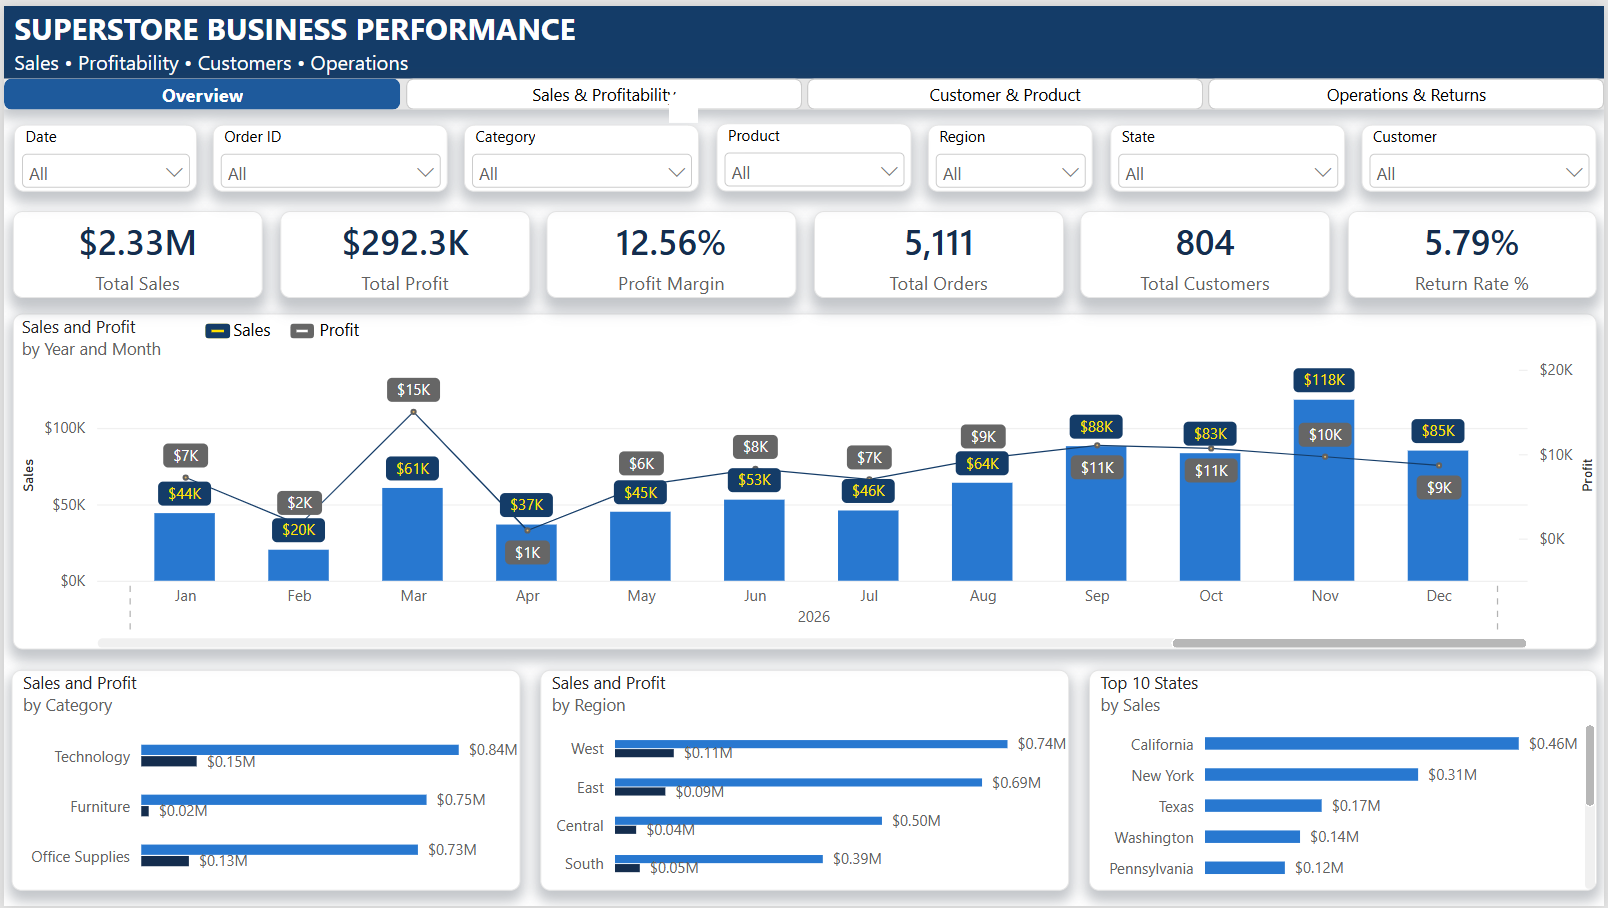

The page's visual inventory and layout, read from the dashboard file:
{"tool":"powerbi","page":{"name":"Overview","canvas":[1280,720],"ordinal":0},"visuals":[{"type":"shape","box":[0,0,1280.2,58.5],"z":0},{"type":"textbox","box":[7,1,1245,56],"z":1000},{"type":"clusteredBarChart","fields":{"Category":["Orders.Category"],"Y":["_Measures.Total Sales","_Measures.Total Profit"]},"box":[6.4,530.8,406.1,177.4],"z":2000},{"type":"clusteredBarChart","fields":{"Category":["Orders.Region"],"Y":["_Measures.Total Sales","_Measures.Total Profit"]},"box":[429,531,423,177],"z":3000},{"type":"clusteredBarChart","title":"Top 10 States","fields":{"Category":["Orders.State/Province"],"Y":["_Measures.Total Sales"]},"box":[868,531,406,177],"z":4000},{"type":"lineClusteredColumnComboChart","fields":{"Category":["DimDate.Year","DimDate.Month"],"Y":["_Measures.Total Sales"],"Y2":["_Measures.Total Profit"]},"box":[7.2,246.4,1266.9,269],"z":12000},{"type":"card","fields":{"Values":["_Measures.Total Sales"]},"box":[6.7,164.2,200.6,70],"z":13000},{"type":"card","fields":{"Values":["_Measures.Total Profit"]},"box":[220.9,164.4,200,70],"z":14000},{"type":"card","fields":{"Values":["_Measures.Profit Margin"]},"box":[434.4,164.4,200,70],"z":15000},{"type":"card","fields":{"Values":["_Measures.Total Orders"]},"box":[647.9,164.4,200,70],"z":16000},{"type":"card","fields":{"Values":["_Measures.Total Customers"]},"box":[861.4,164.4,200,70],"z":17000},{"type":"card","fields":{"Values":["Returns.Return Rate %"]},"box":[1074.9,164.2,198.7,70],"z":18000},{"type":"pageNavigator","box":[0,58,1280,25],"z":19000},{"type":"shape","box":[161.2,253.6,19.5,12.3],"z":20000},{"type":"shape","box":[228.9,253.6,19.5,12.3],"z":21000},{"type":"textbox","box":[183,249,40,19.5],"z":22000},{"type":"textbox","box":[252,249,66.7,19.5],"z":23000},{"type":"slicer","fields":{"Values":["DimDate.Year","DimDate.Month","DimDate.Day"]},"box":[8,95,145.8,54.4],"z":23001},{"type":"slicer","fields":{"Values":["Orders.Order ID"]},"box":[167.3,94.9,187.7,54.1],"z":23002},{"type":"slicer","fields":{"Values":["Orders.Category"]},"box":[368.4,94.9,187.7,54.1],"z":23003},{"type":"slicer","fields":{"Values":["Orders.Region"]},"box":[739.1,94.8,132.4,54.1],"z":23004},{"type":"slicer","fields":{"Values":["Orders.State/Province"]},"box":[884.9,94.8,188,54.3],"z":23005},{"type":"slicer","fields":{"Values":["Orders.Sub-Category"]},"box":[569.6,94.4,156,55],"z":23006},{"type":"slicer","fields":{"Values":["Orders.Customer Name"]},"box":[1086.4,94.8,187.7,54.1],"z":23007}]}

Visuals, with their boxes in screenshot pixels (x1, y1, x2, y2), scaled from the page's 1280x720 canvas onto the 1608x908 screenshot:
shape: [0,0,1607,74]
textbox: [9,1,1573,72]
clusteredBarChart - Orders.Category x _Measures.Total Sales: [8,669,518,893]
clusteredBarChart - Orders.Region x _Measures.Total Sales: [539,670,1070,893]
"Top 10 States" clusteredBarChart: [1090,670,1600,893]
lineClusteredColumnComboChart - DimDate.Year x DimDate.Month: [9,311,1601,650]
card - _Measures.Total Sales: [8,207,260,295]
card - _Measures.Total Profit: [278,207,529,296]
card - _Measures.Profit Margin: [546,207,797,296]
card - _Measures.Total Orders: [814,207,1065,296]
card - _Measures.Total Customers: [1082,207,1333,296]
card - Returns.Return Rate %: [1350,207,1600,295]
pageNavigator: [0,73,1607,105]
shape: [203,320,227,335]
shape: [288,320,312,335]
textbox: [230,314,280,339]
textbox: [317,314,400,339]
slicer - DimDate.Year x DimDate.Month: [10,120,193,188]
slicer - Orders.Order ID: [210,120,446,188]
slicer - Orders.Category: [463,120,699,188]
slicer - Orders.Region: [928,120,1095,188]
slicer - Orders.State/Province: [1112,120,1348,188]
slicer - Orders.Sub-Category: [716,119,912,188]
slicer - Orders.Customer Name: [1365,120,1601,188]
